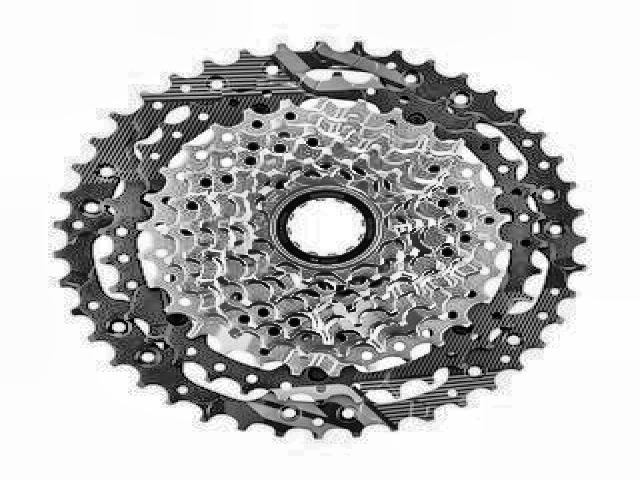cassette: (54, 39, 588, 440)
